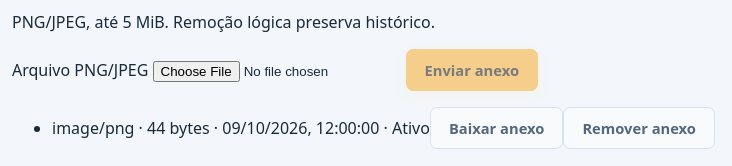
remove após confirmação, preserva revogado e bloqueia download visual
The width and height of the screenshot is (732, 166).
Click the button "Remover anexo" at {"x": 639, "y": 128}, box [563,107,715,149]
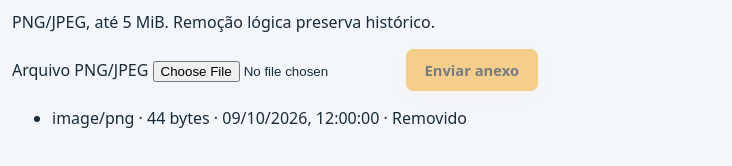
Now the text "image/png · 44 bytes · 09/10/2026, 12:00:00 · Removido" is shown, box [52,107,467,129]
Now the button "Baixar anexo" is gone
